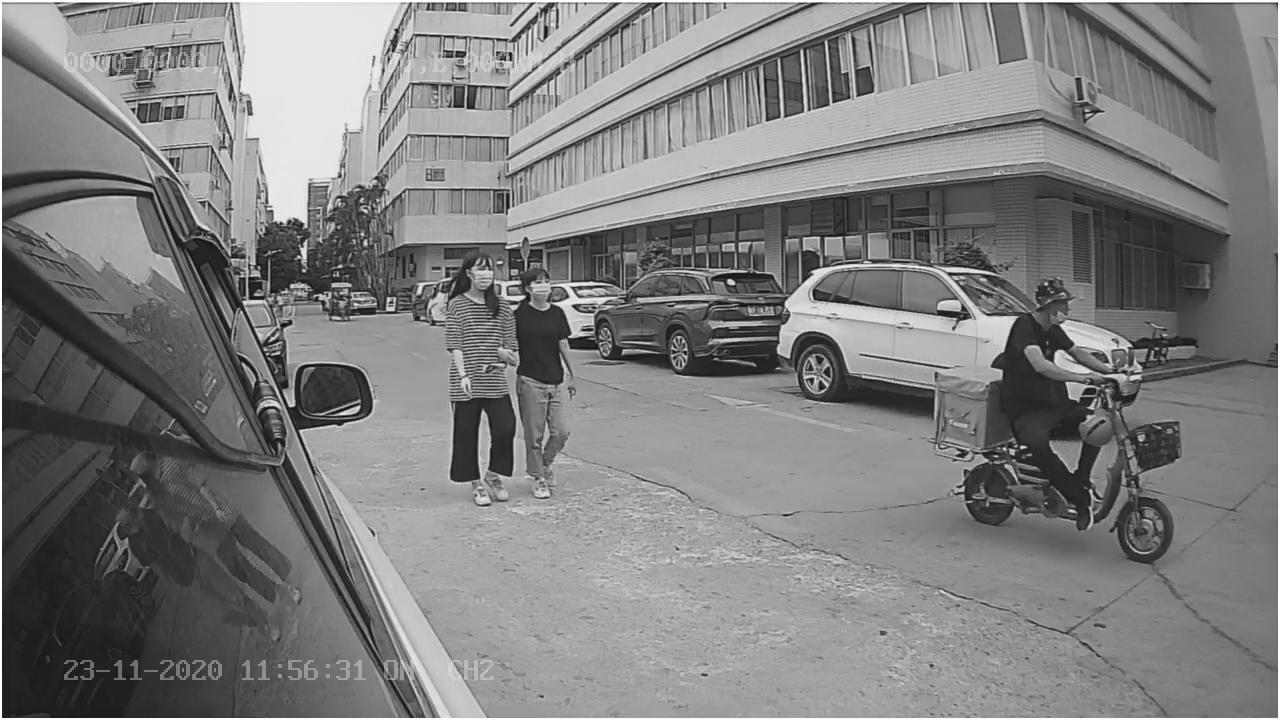person: (439, 247, 512, 507), (515, 246, 583, 501), (989, 275, 1086, 407)
